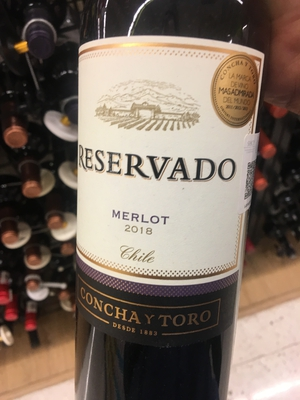reservado merlot: (47, 7, 286, 391)
